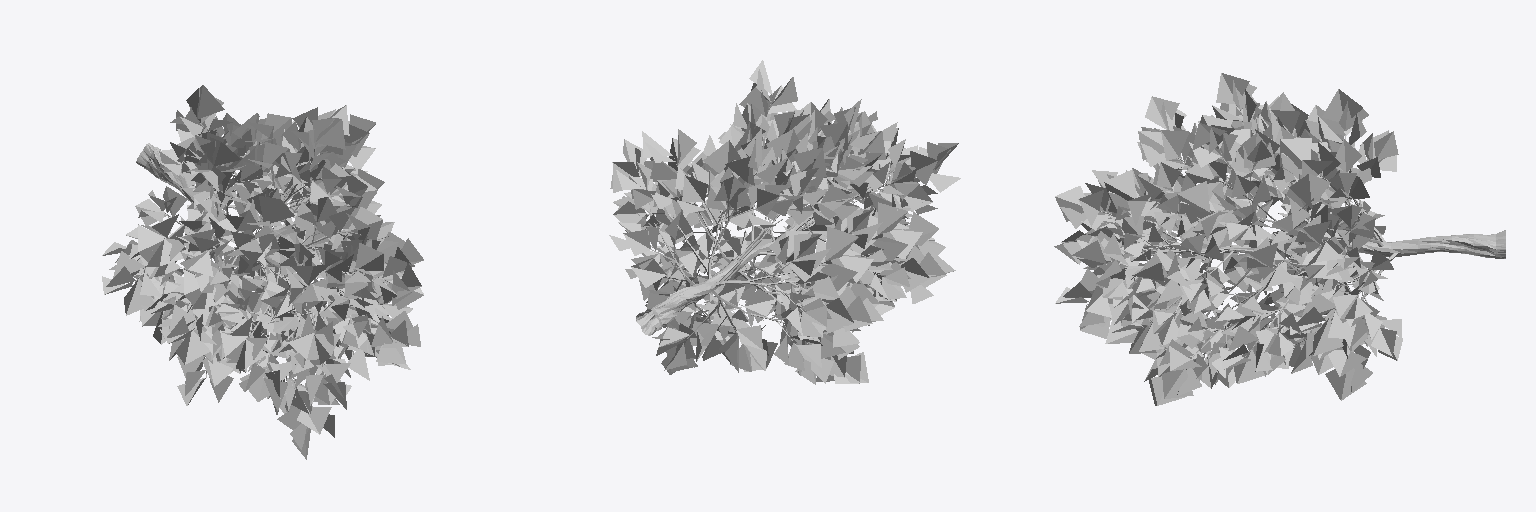
3 views of the same model, side by side, from view 1: azimuth 30°, elevation 25°; view 2: azimuth 150°, elevation 25°; view 3: azimuth 270°, elevation 25° (orthographic).
Visible parts, largest first — view 1: Tree_0_Tree_0Mat_0; view 2: Tree_0_Tree_0Mat_0; view 3: Tree_0_Tree_0Mat_0.
Part boxes in pixels (bbox=[...]): Tree_0_Tree_0Mat_0: bbox=[102, 85, 423, 459]; Tree_0_Tree_0Mat_0: bbox=[609, 60, 960, 384]; Tree_0_Tree_0Mat_0: bbox=[1054, 73, 1505, 405].
Bounding box in the file's own units: 2.68 × 2.9 × 3.8.